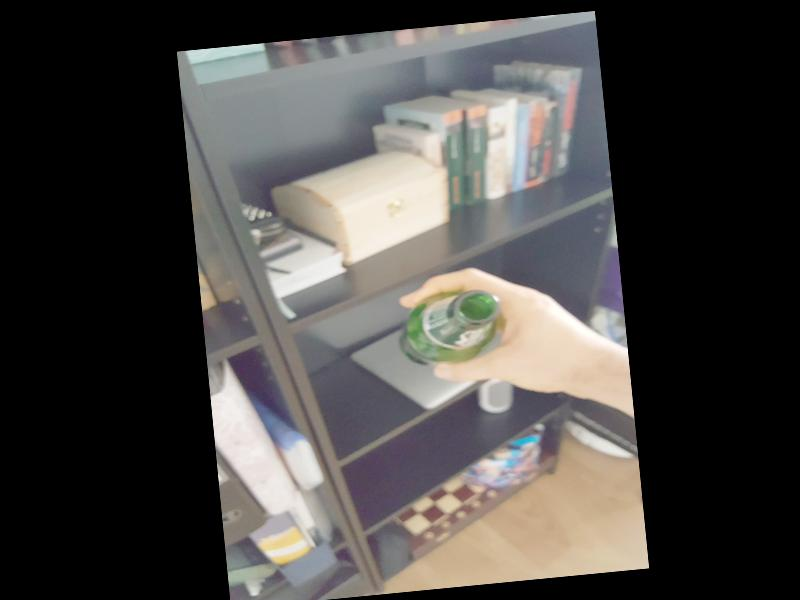Beer: (395, 288, 506, 372)
